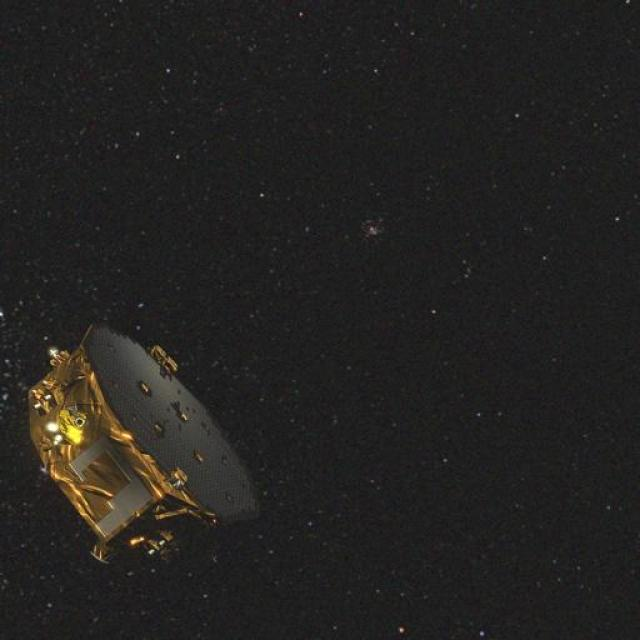lisa_pathfinder: (8, 309, 308, 587)
